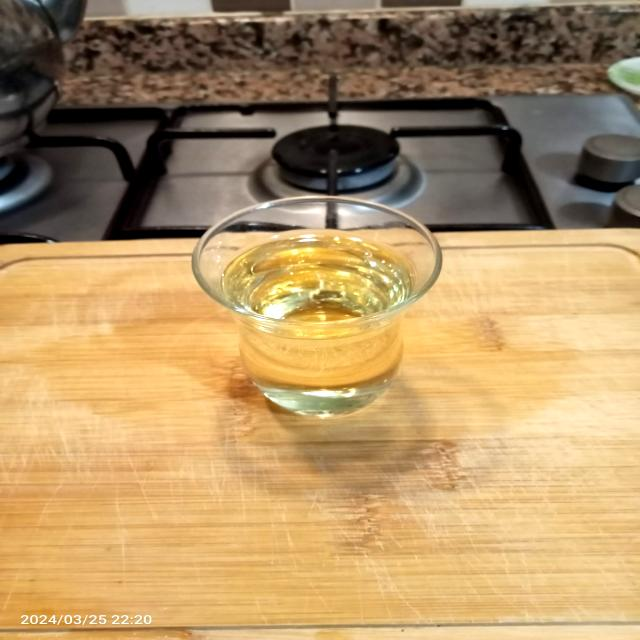olive oil: (194, 192, 453, 427)
